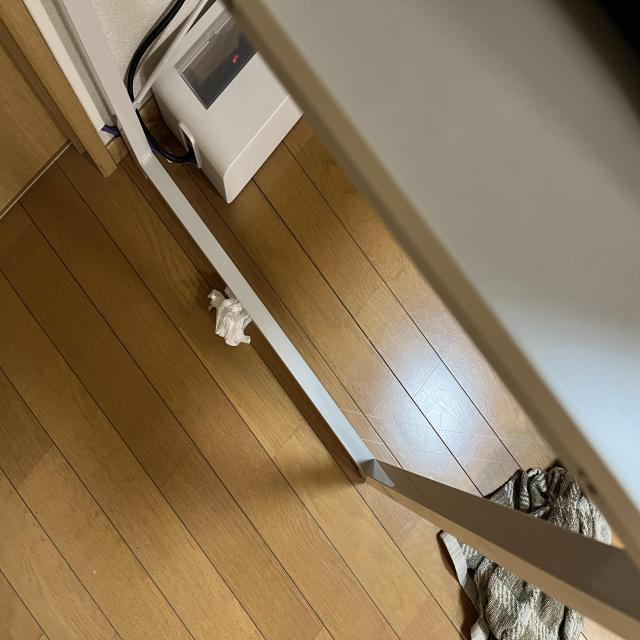Paper: (204, 289, 260, 360)
